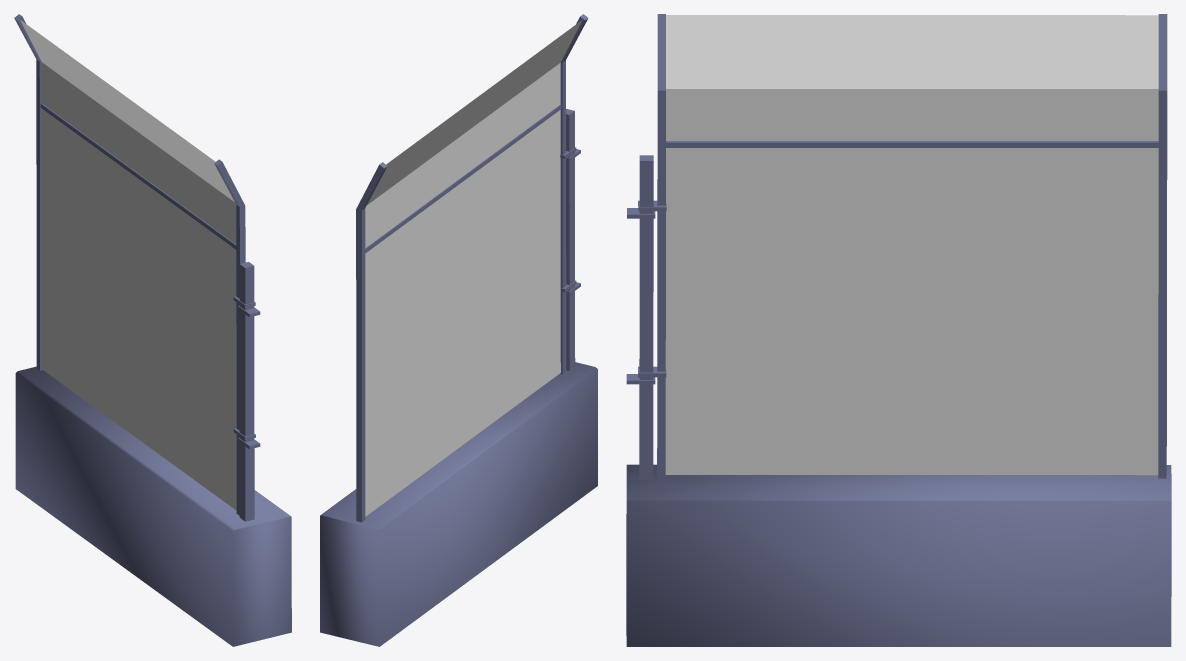
File: fence.fbx
The picture shows the model from 3 angles, left to right: view 1: azimuth 30°, elevation 25°; view 2: azimuth 150°, elevation 25°; view 3: azimuth 270°, elevation 25°; orthographic projection. The views are drawn at different scales.
Visible parts, largest first — view 1: obj_fenchmesh, obj_fence.001; view 2: obj_fenchmesh, obj_fence.001; view 3: obj_fenchmesh, obj_fence.001.
Boxes of the visible parts, left/top/right/bottom form: obj_fenchmesh: left=20, top=20, right=236, bottom=510; obj_fence.001: left=14, top=14, right=291, bottom=646; obj_fenchmesh: left=365, top=20, right=582, bottom=516; obj_fence.001: left=320, top=14, right=597, bottom=646; obj_fenchmesh: left=665, top=15, right=1158, bottom=475; obj_fence.001: left=626, top=14, right=1171, bottom=646.
Size of the model in its own units: 66.32 by 482 by 398.
